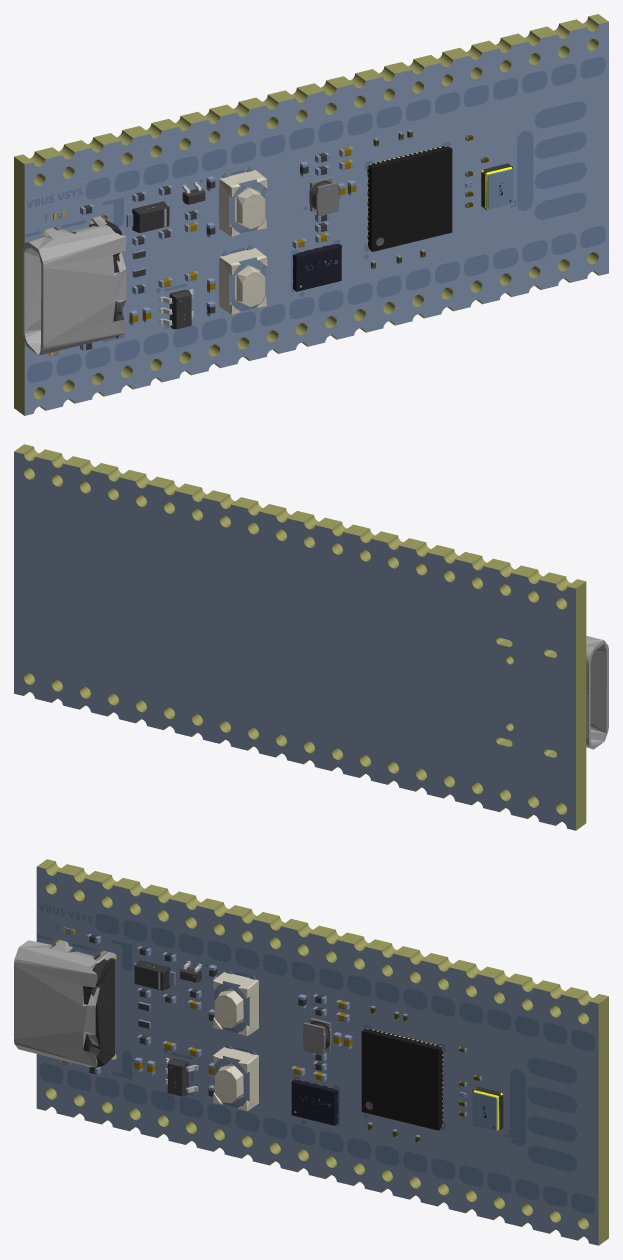
Rendered from preview.obj.
3 renders of one model, top to bottom at view 1: azimuth 30°, elevation 25°; view 2: azimuth 150°, elevation 25°; view 3: azimuth 330°, elevation 25°, orthographic. The views are drawn at different scales.
Size of the model in its own units: 51.19 by 20.97 by 4.81.
